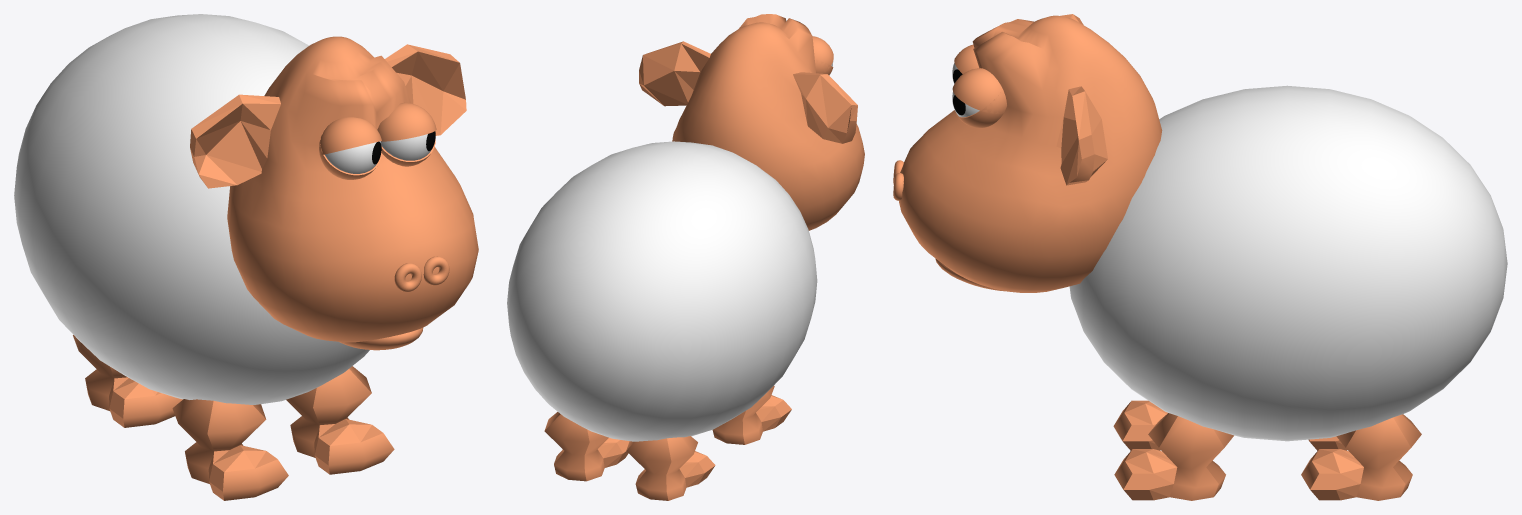
File: sheep.FBX
The picture shows the model from 3 angles, left to right: view 1: azimuth 30°, elevation 25°; view 2: azimuth 150°, elevation 25°; view 3: azimuth 270°, elevation 25°; orthographic projection. The views are drawn at different scales.
Visible parts, largest first — view 1: Sphere01, Sphere02, Box02, Box01, Box03, Sphere04, Sphere12, Sphere03, Sphere10, Sphere09, Torus01, Torus02; view 2: Sphere01, Sphere02, Box03, Box04, Box02, Sphere04; view 3: Sphere01, Sphere02, Box01, Box04, Box02, Sphere12, Sphere11.
Part boxes in pixels (left/top/right/bottom): Sphere01: left=14, top=14, right=369, bottom=404; Sphere02: left=190, top=36, right=478, bottom=342; Box02: left=172, top=399, right=288, bottom=500; Box01: left=286, top=366, right=394, bottom=474; Box03: left=73, top=335, right=182, bottom=427; Sphere04: left=319, top=117, right=381, bottom=155; Sphere12: left=377, top=102, right=436, bottom=141; Sphere03: left=325, top=141, right=381, bottom=173; Sphere10: left=381, top=131, right=435, bottom=160; Sphere09: left=339, top=328, right=423, bottom=350; Torus01: left=394, top=263, right=421, bottom=291; Torus02: left=423, top=256, right=449, bottom=285; Sphere01: left=507, top=141, right=817, bottom=441; Sphere02: left=639, top=14, right=864, bottom=230; Box03: left=626, top=436, right=715, bottom=500; Box04: left=544, top=412, right=629, bottom=481; Box02: left=712, top=386, right=791, bottom=444; Sphere04: left=812, top=36, right=833, bottom=73; Sphere01: left=1069, top=85, right=1507, bottom=441; Sphere02: left=899, top=14, right=1162, bottom=292; Box01: left=1114, top=413, right=1233, bottom=500; Box04: left=1301, top=414, right=1421, bottom=500; Box02: left=1113, top=400, right=1167, bottom=450; Sphere12: left=952, top=68, right=1006, bottom=113; Sphere11: left=956, top=92, right=1006, bottom=127.
Bounding box in the file's own units: 97.8 × 134 × 169.
